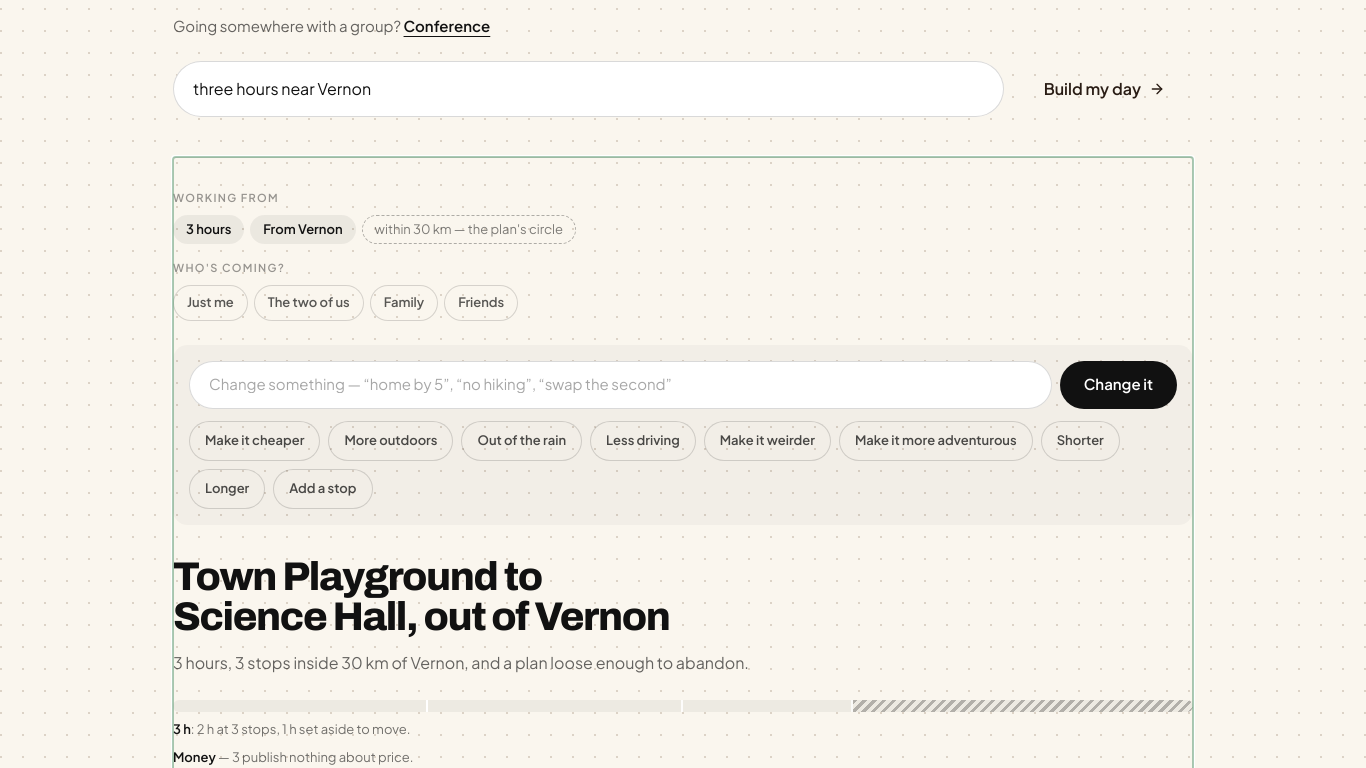
Go have a day › says so when it hears nothing to change
(page scrolled)
Replace the text in the field with test id "go-change" with "hmm" at (620, 384), box [189,360,1052,408]
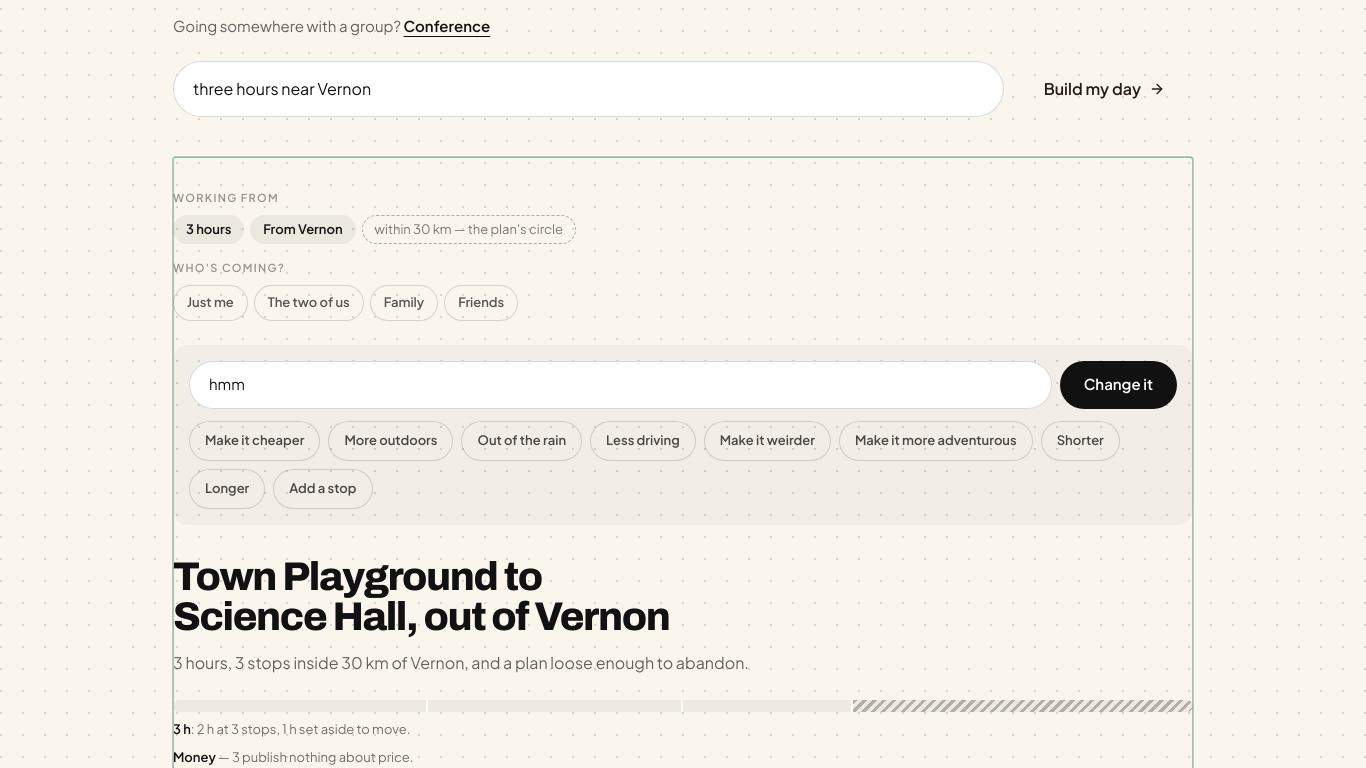
Click the button with test id "go-change-submit" at (1118, 384), box [1060,360,1177,408]
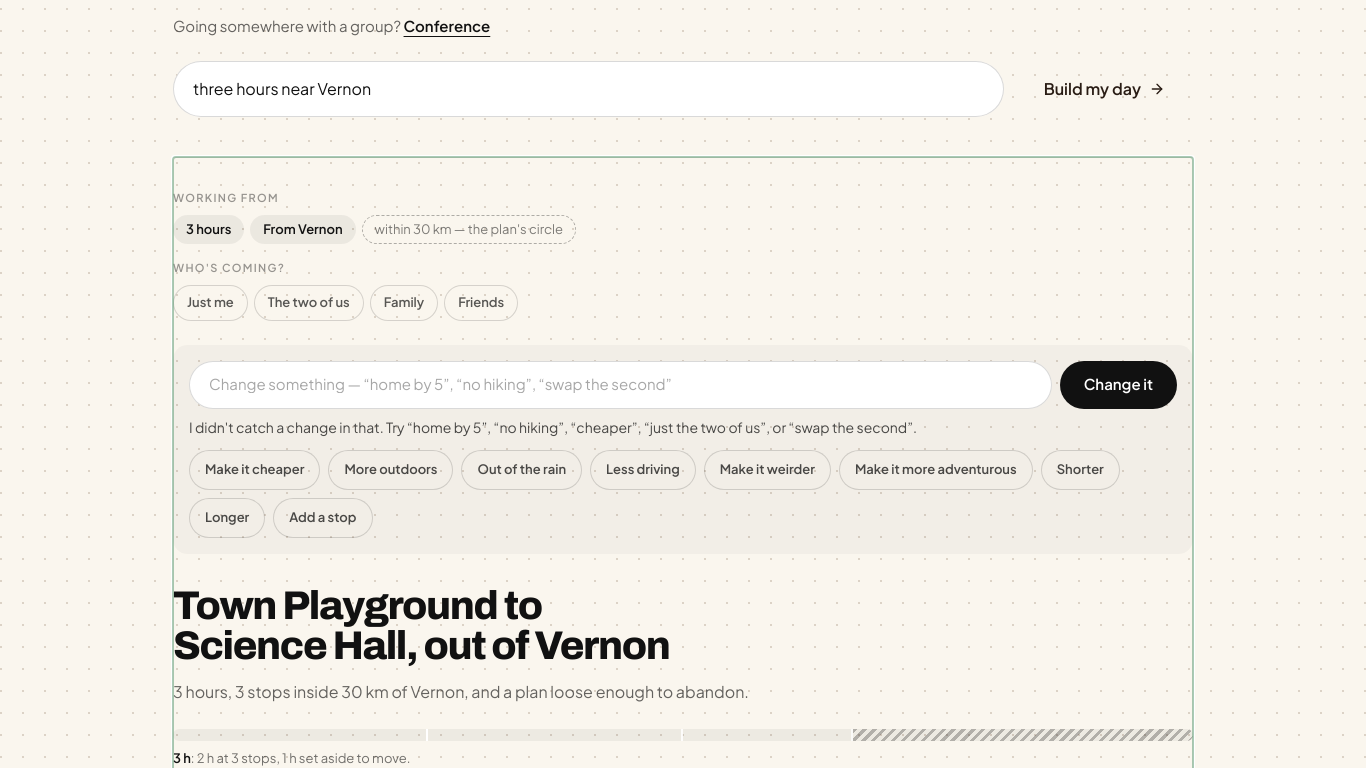
Now the text with test id "go-reply" shows "didn't catch", box [189,418,917,436]
